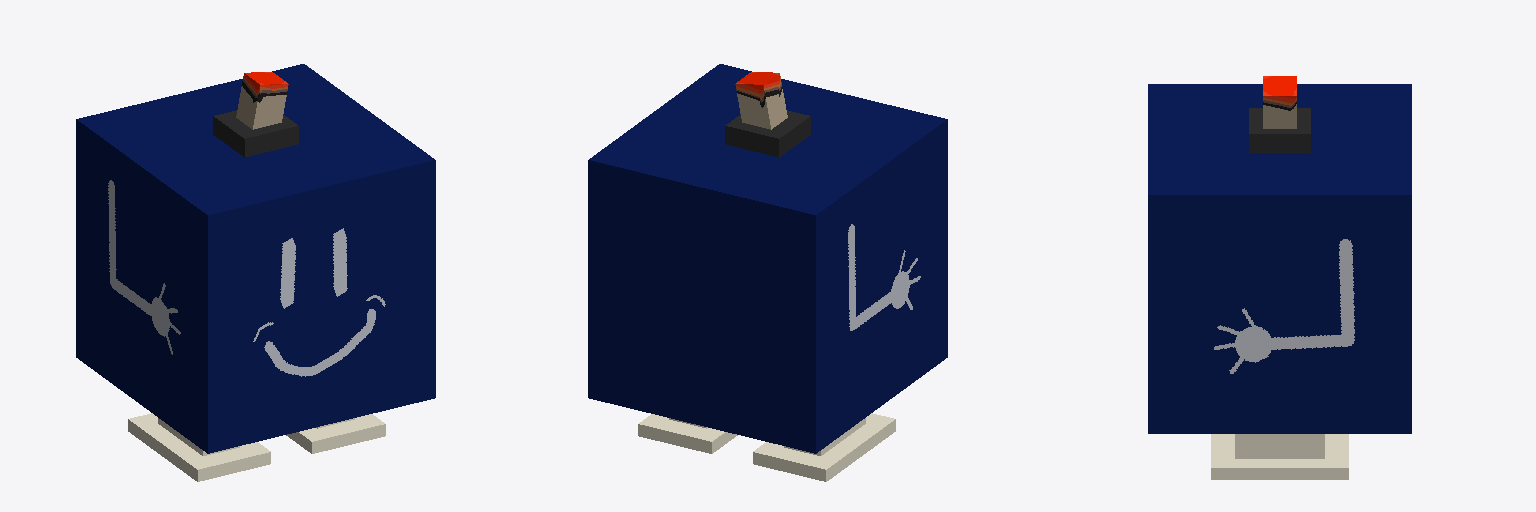
3 renders of one model, left to right at view 1: azimuth 30°, elevation 25°; view 2: azimuth 150°, elevation 25°; view 3: azimuth 270°, elevation 25°, orthographic.
Parts seen in each view (by area): view 1: Cube.004; view 2: Cube.004; view 3: Cube.004.
Part boxes in pixels (left/top/right/bottom): Cube.004: left=76, top=64, right=435, bottom=481; Cube.004: left=588, top=64, right=947, bottom=481; Cube.004: left=1148, top=76, right=1411, bottom=479.
Size of the model in its own units: 2 by 2.99 by 2.
1 materials, 1 textured.